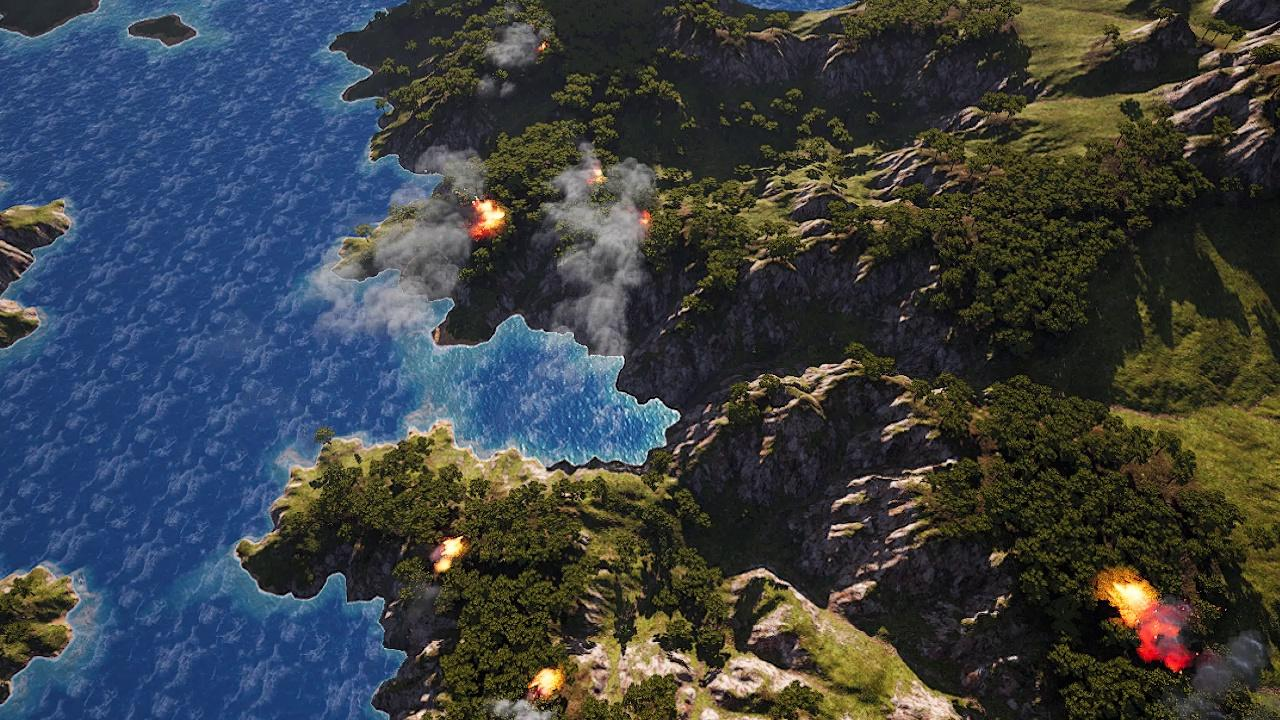fire: (1106, 580, 1155, 625), (470, 199, 508, 239), (432, 538, 465, 574), (533, 668, 565, 696), (585, 162, 610, 188), (637, 207, 654, 229)
smoke: (308, 139, 497, 338), (533, 137, 654, 375), (1131, 600, 1272, 719), (472, 16, 537, 101), (492, 695, 546, 720)
